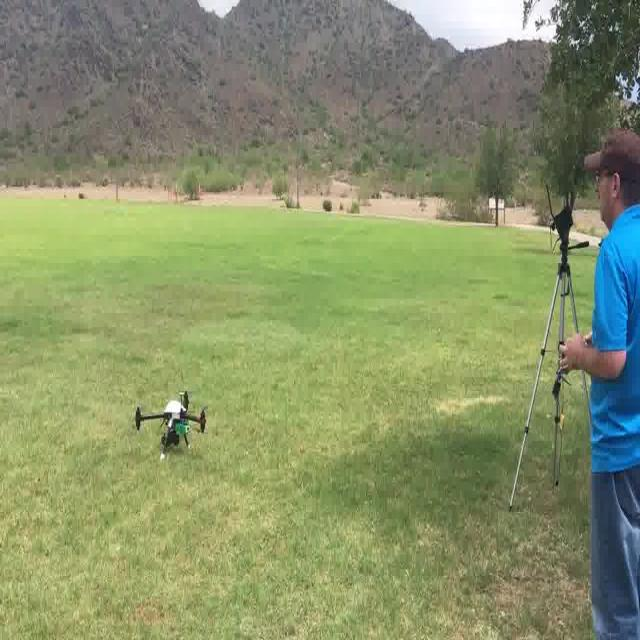drone: (132, 384, 210, 465)
